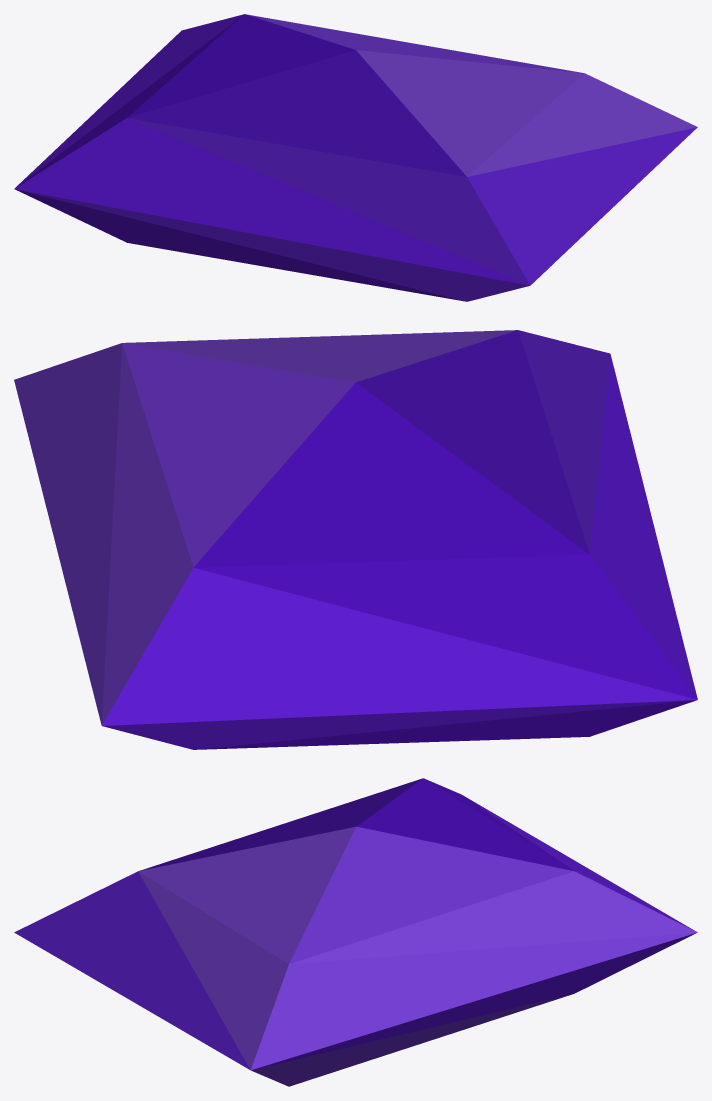
The model's file is prop_treasure_gem_amethyst_1.fbx.
3 renders of one model, top to bottom at view 1: azimuth 30°, elevation 25°; view 2: azimuth 150°, elevation 25°; view 3: azimuth 270°, elevation 25°, orthographic. The views are drawn at different scales.
Visible parts, largest first — view 1: prop_treasure_gem_amethyst_1; view 2: prop_treasure_gem_amethyst_1; view 3: prop_treasure_gem_amethyst_1.
Part boxes in pixels (x1,y1,x2,y2): prop_treasure_gem_amethyst_1: (14, 14, 697, 301); prop_treasure_gem_amethyst_1: (14, 330, 697, 749); prop_treasure_gem_amethyst_1: (14, 778, 697, 1086).
Size of the model in its own units: 0.4772 by 0.1708 by 0.5001.
